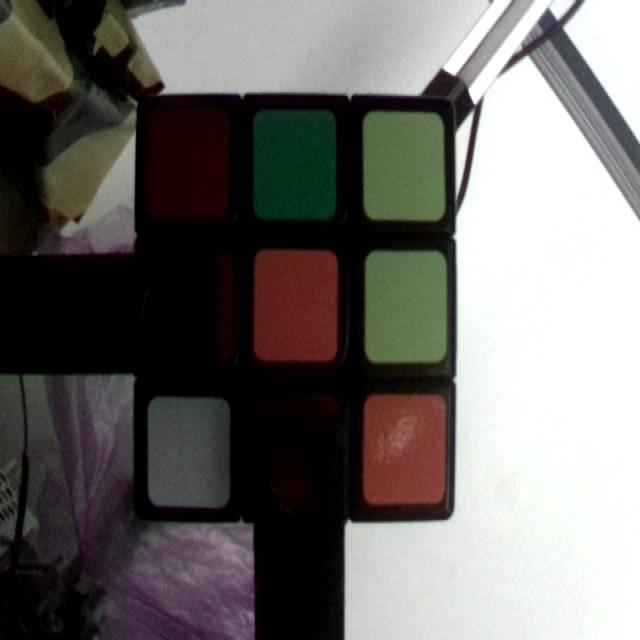g: (259, 110, 334, 222)
o: (258, 248, 335, 359), (370, 395, 443, 501)
r: (252, 381, 339, 492), (152, 247, 233, 357), (153, 114, 231, 222)
w: (151, 398, 225, 506)
y: (365, 258, 446, 358), (365, 110, 441, 214)
